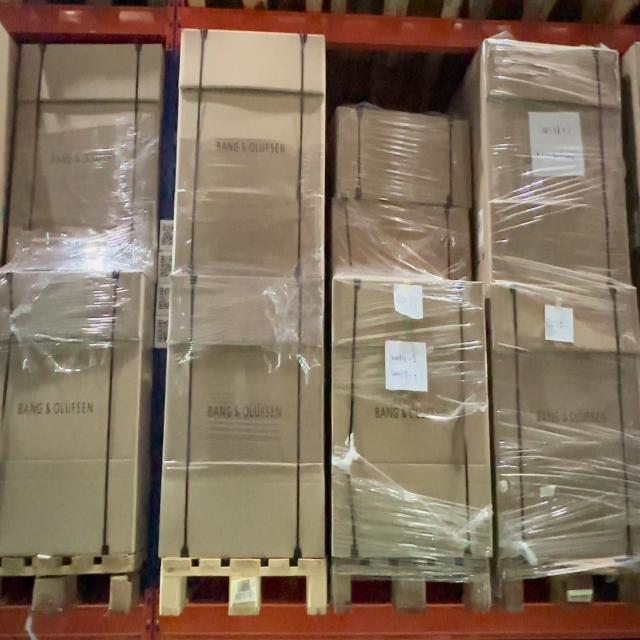box: (156, 279, 327, 558), (331, 281, 493, 559), (491, 288, 640, 560), (171, 32, 329, 280), (481, 40, 629, 287), (334, 107, 471, 207), (331, 198, 471, 282)
